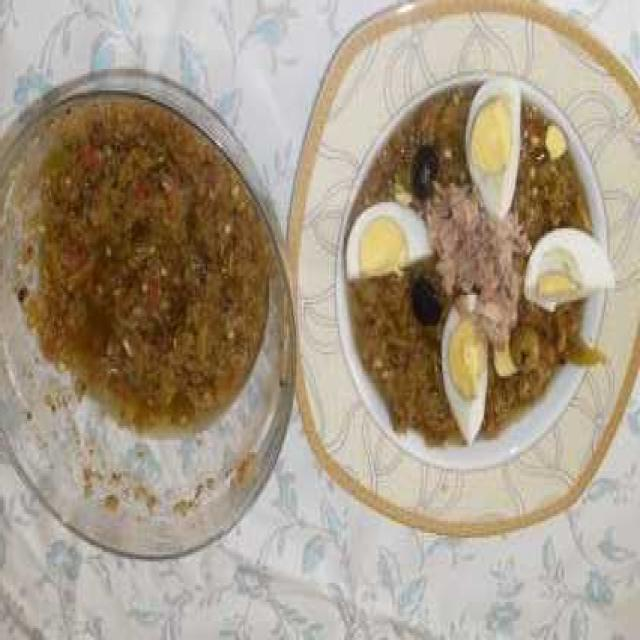Salade mechweya: (308, 73, 628, 498), (9, 102, 284, 515)
